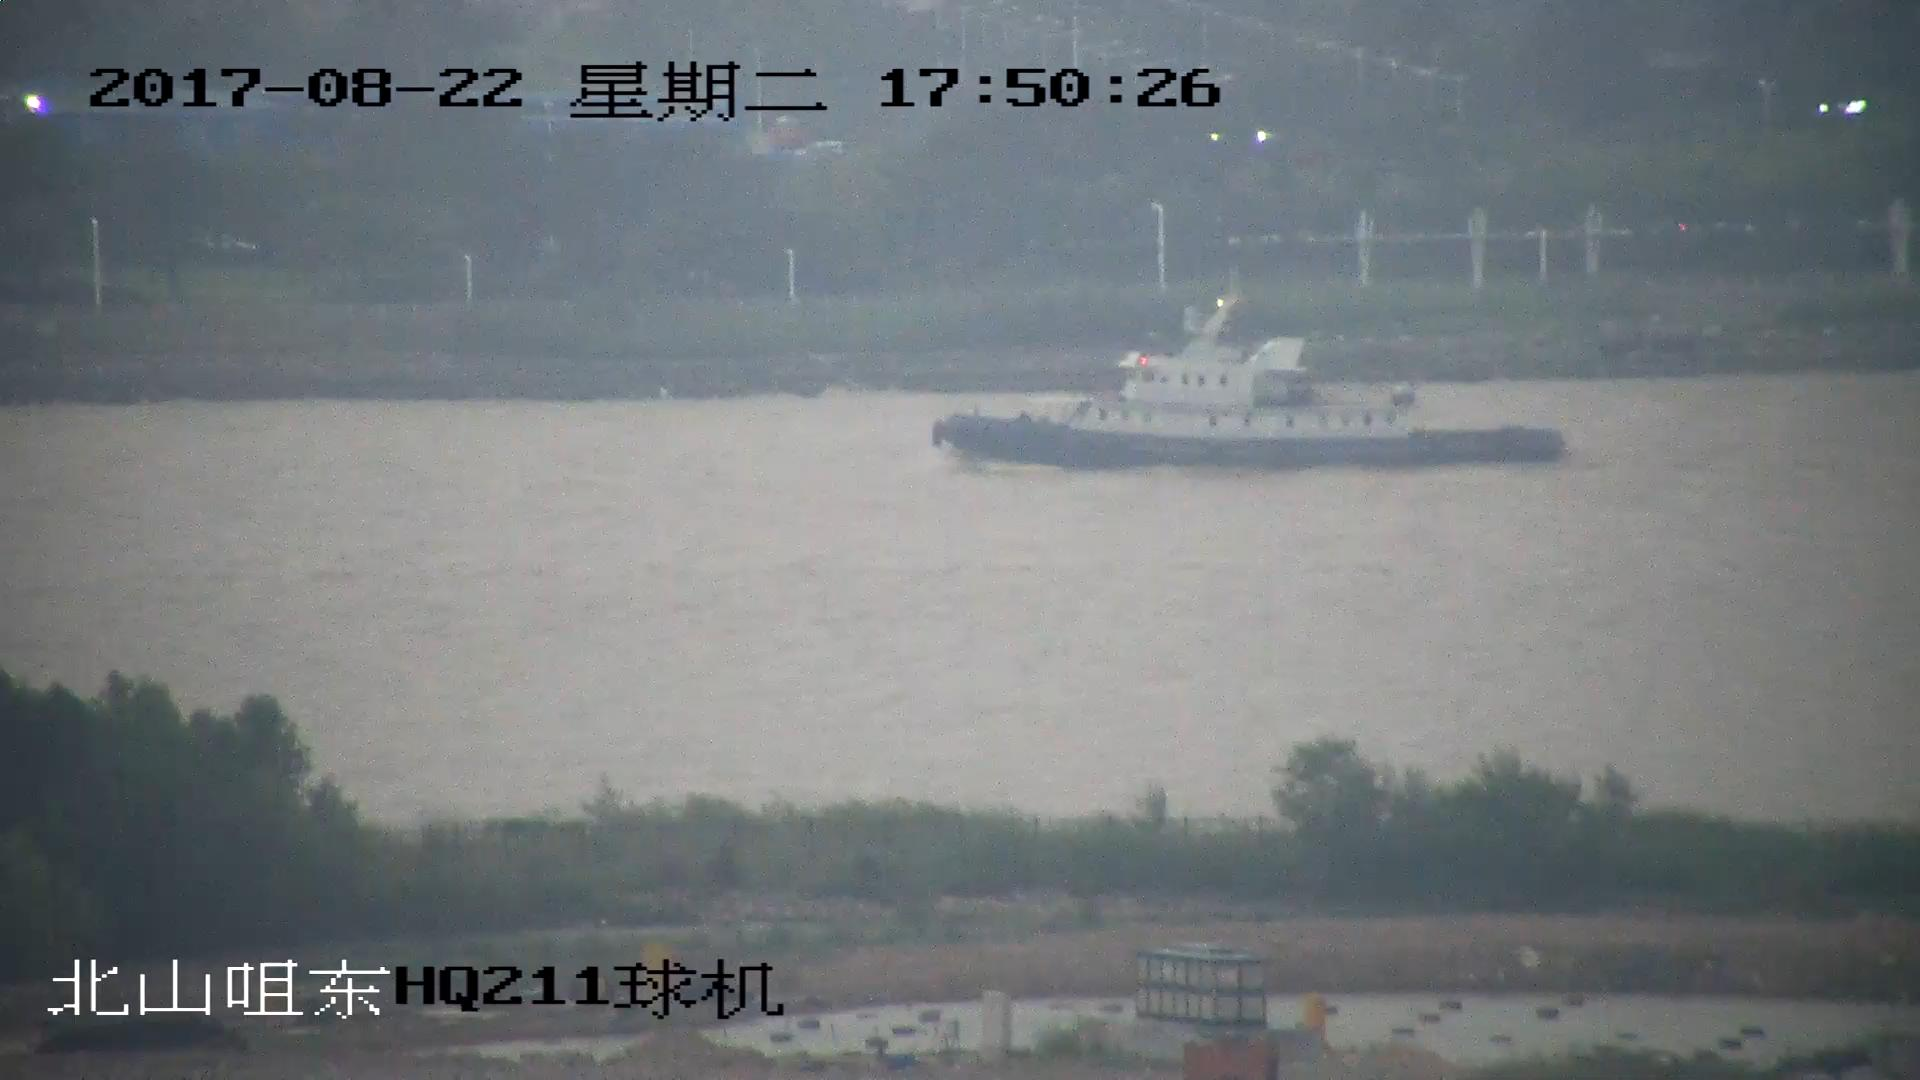passenger ship: (928, 293, 1566, 467)
